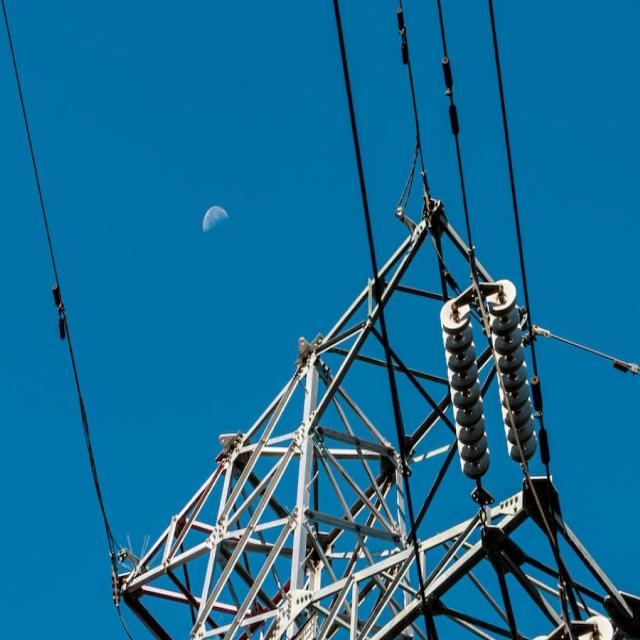insulator: (463, 258, 568, 507), (404, 293, 504, 516)
